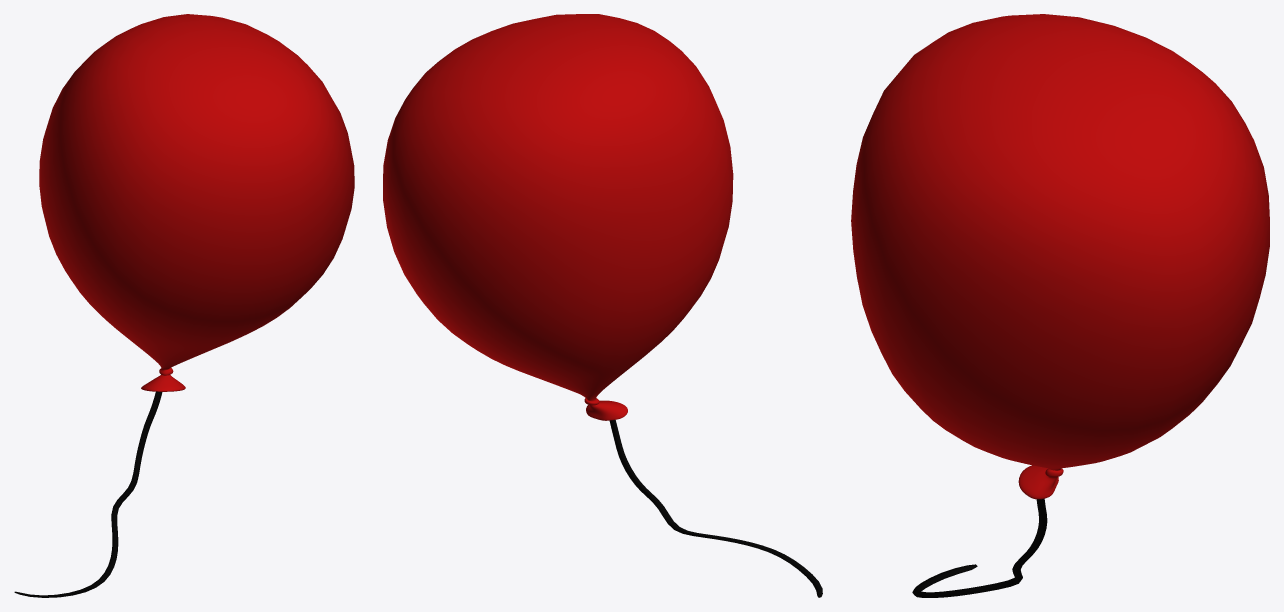
Rendered from ballon.FBX.
3 views of the same model, side by side, from view 1: azimuth 30°, elevation 25°; view 2: azimuth 150°, elevation 25°; view 3: azimuth 270°, elevation 25° (orthographic). The views are drawn at different scales.
Visible parts, largest first — view 1: OBJ_ballon_LOW, ballon2; view 2: OBJ_ballon_LOW, ballon2; view 3: OBJ_ballon_LOW, ballon2.
Boxes of the visible parts, x1,y1,x2,y2 form: OBJ_ballon_LOW: [39, 14, 354, 391]; ballon2: [14, 391, 162, 597]; OBJ_ballon_LOW: [383, 14, 733, 420]; ballon2: [609, 420, 822, 597]; OBJ_ballon_LOW: [851, 14, 1269, 499]; ballon2: [912, 498, 1047, 597].
Size of the model in its own units: 16.13 by 21.61 by 12.29.
